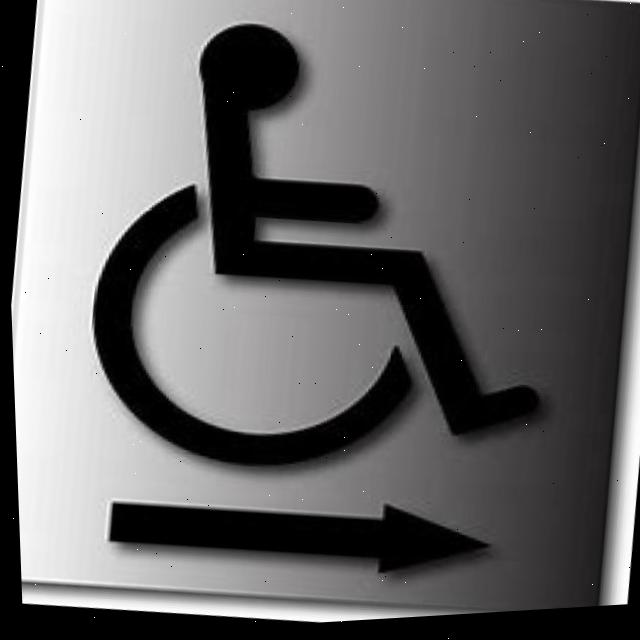symbol_of_access: (59, 0, 600, 520)
